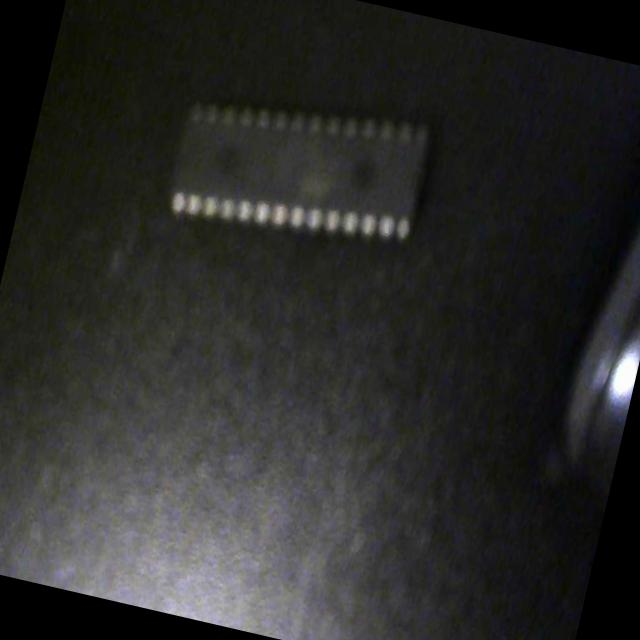atmega: (155, 61, 441, 276)
